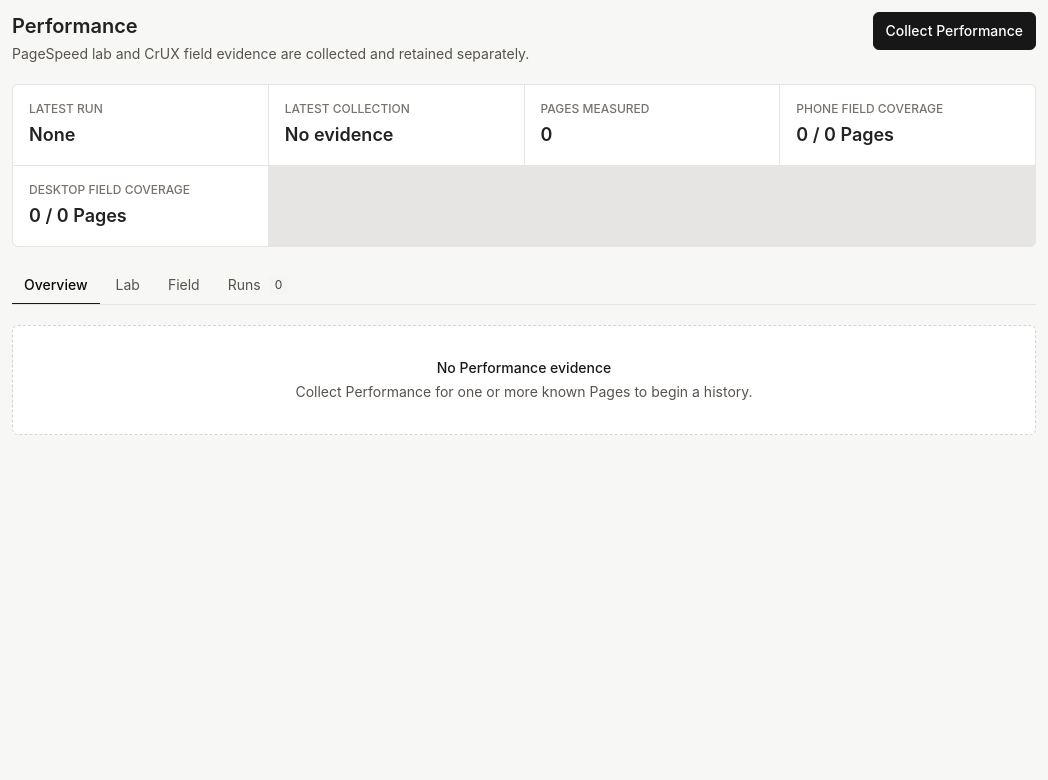
Test: Performance workspace › separates Overview, Lab, Field, and Runs views
Click the tab "Lab": (128, 286) 104,267 -> 152,305
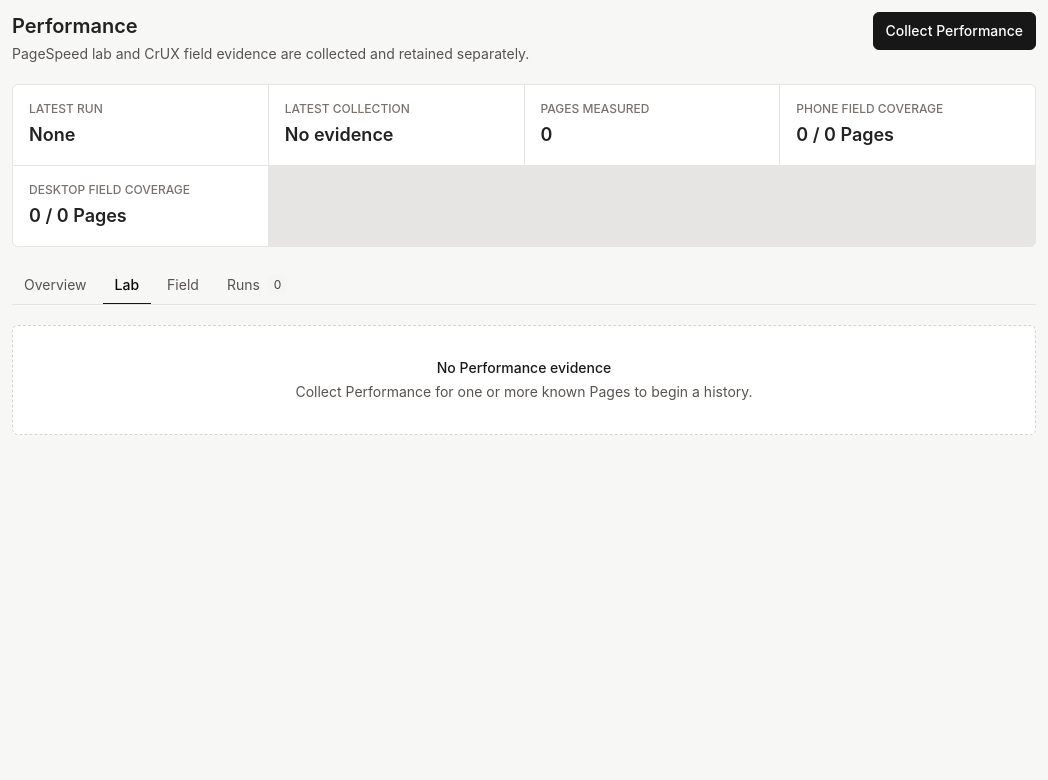
Result: the tab "Lab" is selected at 103,267 -> 151,305
Click the tab "Runs 0": (257, 286) 215,267 -> 299,305
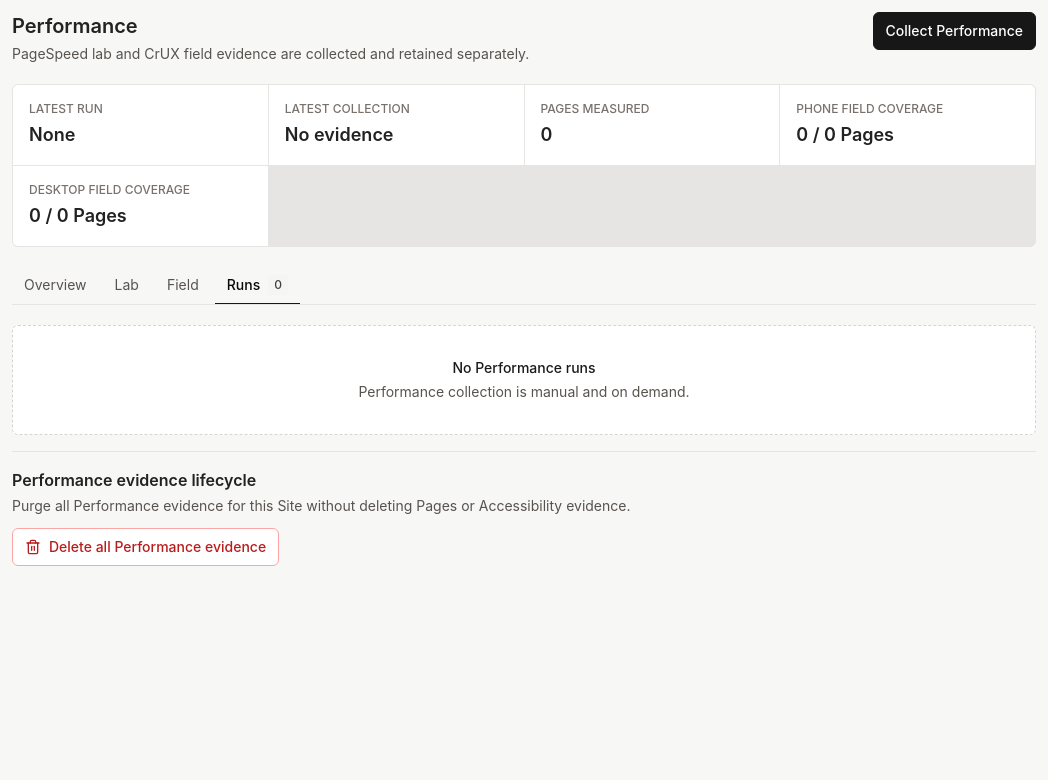
Result: the text "No Performance runs" is shown at 452,359 -> 596,376
